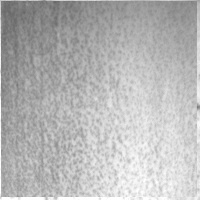inclusion: (176, 92, 200, 116)
pitted_surface: (1, 1, 197, 197), (48, 3, 103, 198), (114, 113, 199, 200)
